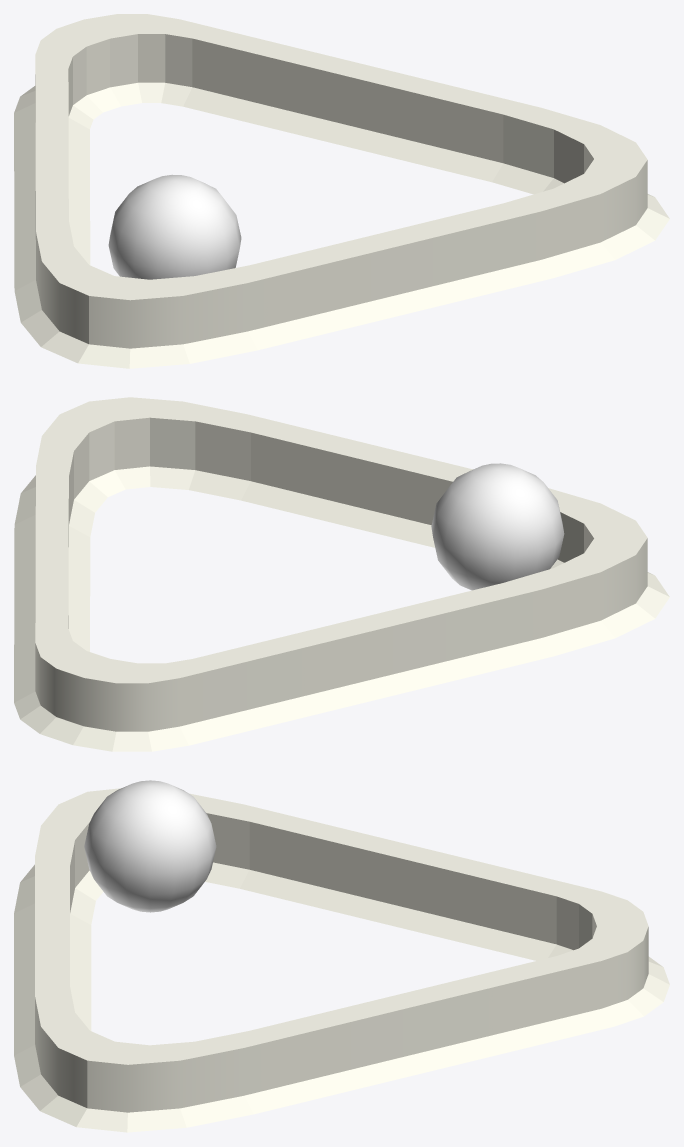
File: Triangle + Ball.FBX
3 views of the same model, one above another, from view 1: azimuth 30°, elevation 25°; view 2: azimuth 150°, elevation 25°; view 3: azimuth 270°, elevation 25° (orthographic).
Parts seen in each view (by area): view 1: BilliardsRacket, BilliardBall; view 2: BilliardsRacket, BilliardBall; view 3: BilliardsRacket, BilliardBall.
Boxes of the visible parts, x1,y1,x2,y2 form: BilliardsRacket: [14, 14, 669, 368]; BilliardBall: [108, 174, 241, 279]; BilliardsRacket: [14, 397, 669, 751]; BilliardBall: [431, 463, 564, 590]; BilliardsRacket: [14, 788, 669, 1132]; BilliardBall: [84, 780, 216, 912].
Bounding box in the file's own units: 266 × 50.76 × 249.
